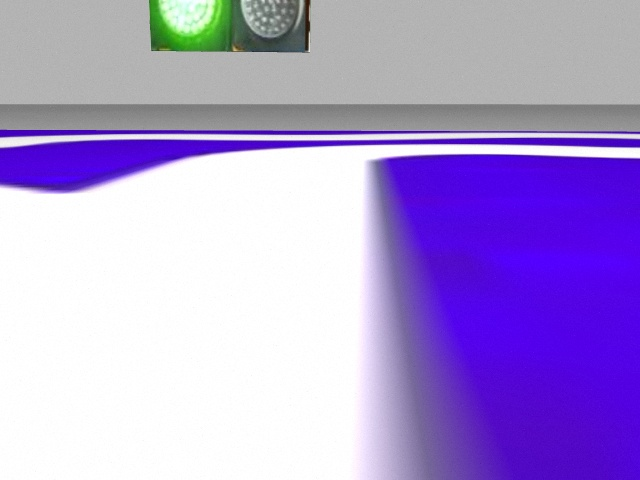green: (150, 1, 233, 50)
